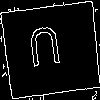U: (25, 25, 64, 77)
